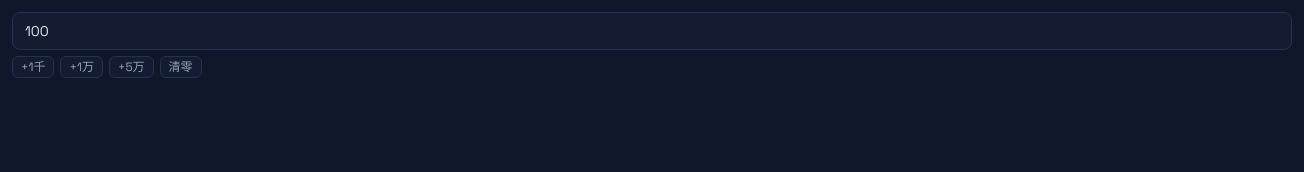
AmountInput 交互增强（全选/上限/Enter） › 键入格式无效时红框提示（不阻塞键入，失焦回退）
The image size is (1304, 172).
In the field: {"x": 652, "y": 31} [12,12,1292,50], type "abc"
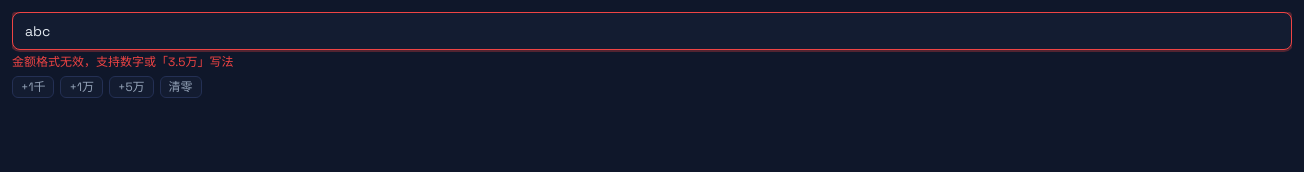
Expected: the text "金额格式无效，支持数字或「3.5万」写法" is shown, [12,54,234,70]
